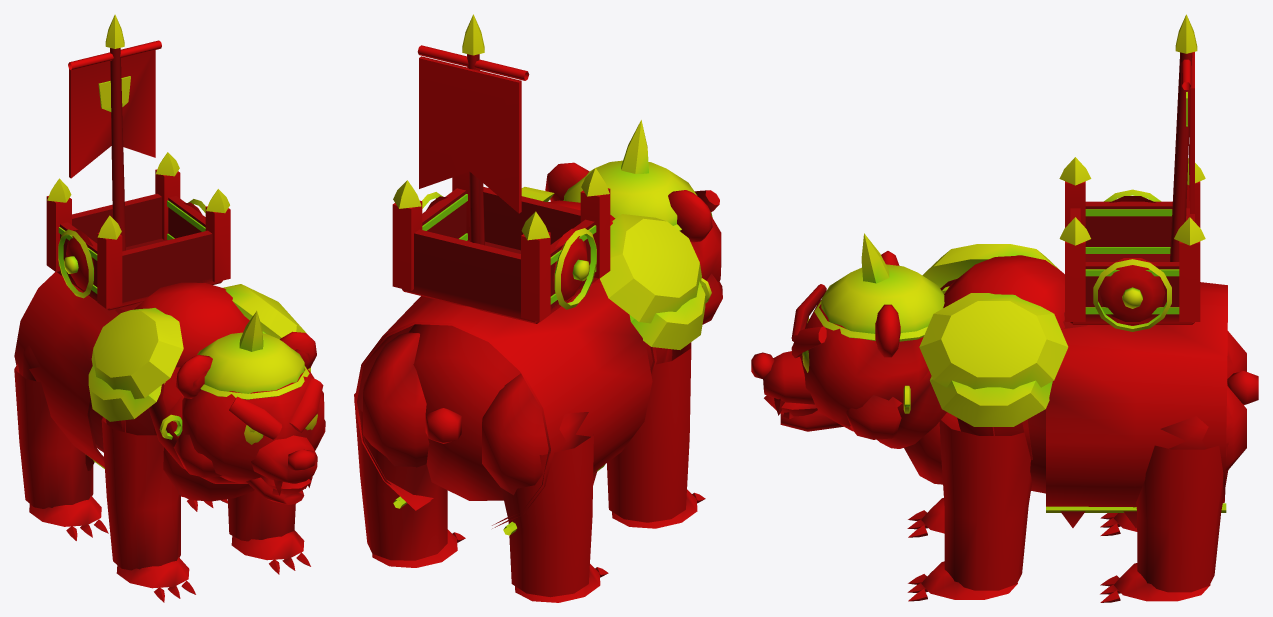
File: GiantBear.glb
3 views of the same model, side by side, from view 1: azimuth 30°, elevation 25°; view 2: azimuth 150°, elevation 25°; view 3: azimuth 270°, elevation 25° (orthographic). The views are drawn at different scales.
Parts seen in each view (by area): view 1: GiantBear; view 2: GiantBear; view 3: GiantBear.
Boxes of the visible parts, x1,y1,x2,y2 form: GiantBear: [14, 14, 325, 602]; GiantBear: [354, 14, 722, 602]; GiantBear: [751, 14, 1258, 602].
Size of the model in its own units: 1.82 by 4.09 by 3.44.
